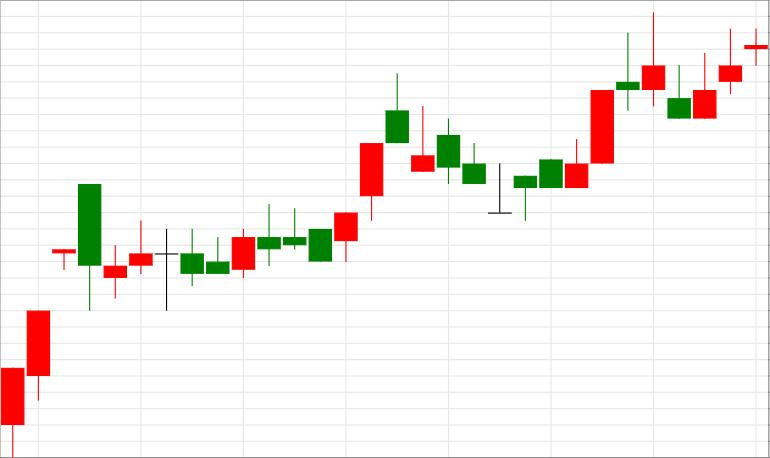bearish_engulfing_fall: (2, 183, 101, 456)
shooting_star_fall: (489, 12, 665, 220)
